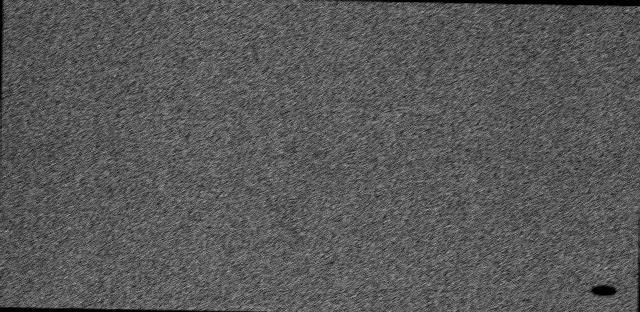punching_hole: (582, 280, 623, 300)
